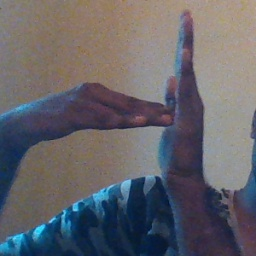Z: (98, 8, 215, 177)
